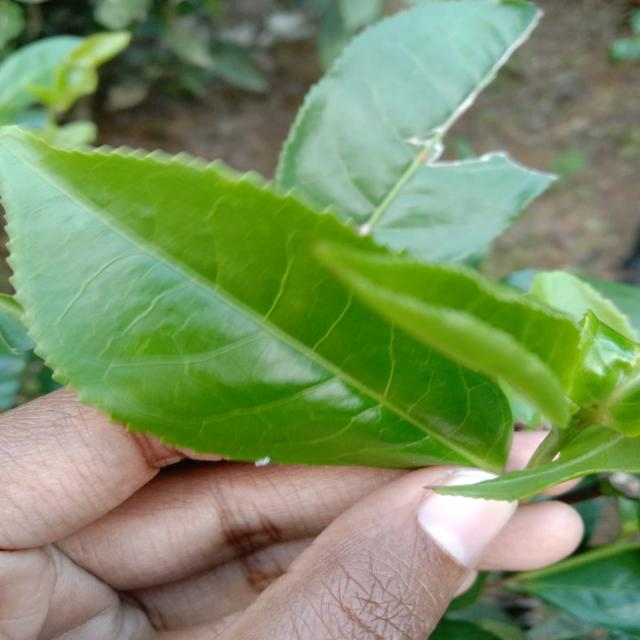Category C(4-7 days): (2, 115, 530, 488)
